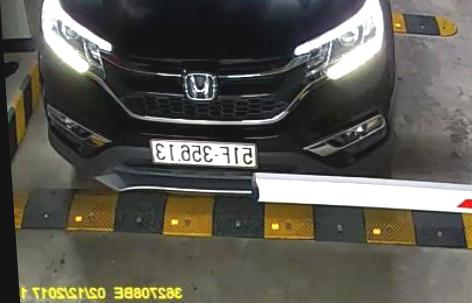License_Plate: (148, 137, 261, 167)
